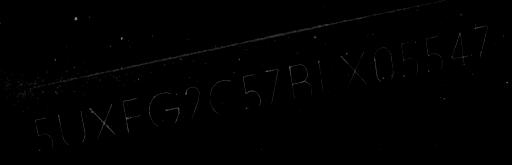letter: (146, 87, 178, 132), (336, 47, 368, 90), (470, 18, 496, 64), (210, 74, 236, 119), (286, 58, 312, 101), (90, 101, 116, 143), (238, 69, 264, 110), (60, 108, 86, 147), (371, 45, 397, 82), (421, 34, 445, 73), (32, 115, 56, 152), (264, 64, 284, 107), (399, 37, 419, 78), (120, 95, 140, 135), (184, 81, 202, 124), (451, 28, 469, 71), (314, 54, 328, 95)
